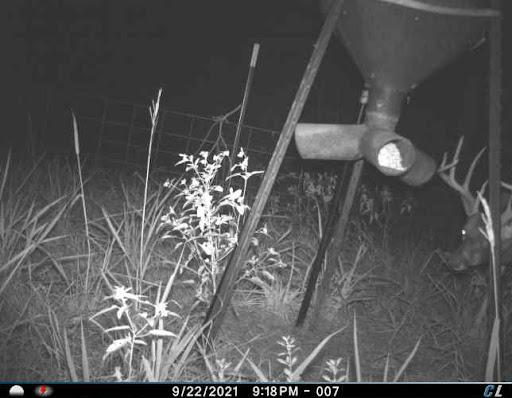Deer: (436, 132, 512, 299)
